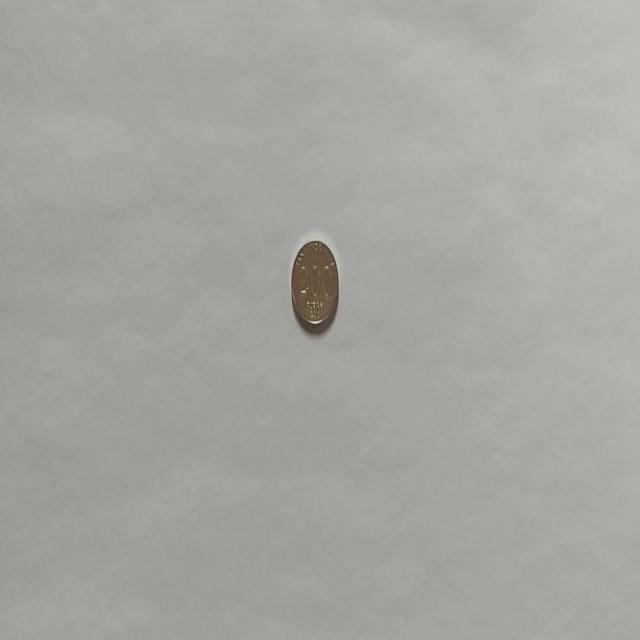dua ratus rupiah: (290, 238, 340, 332)
